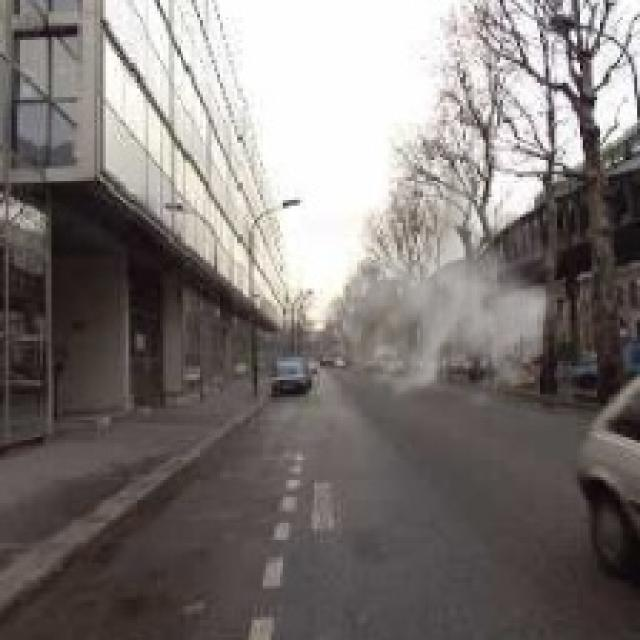Smoke: (314, 157, 566, 423)
